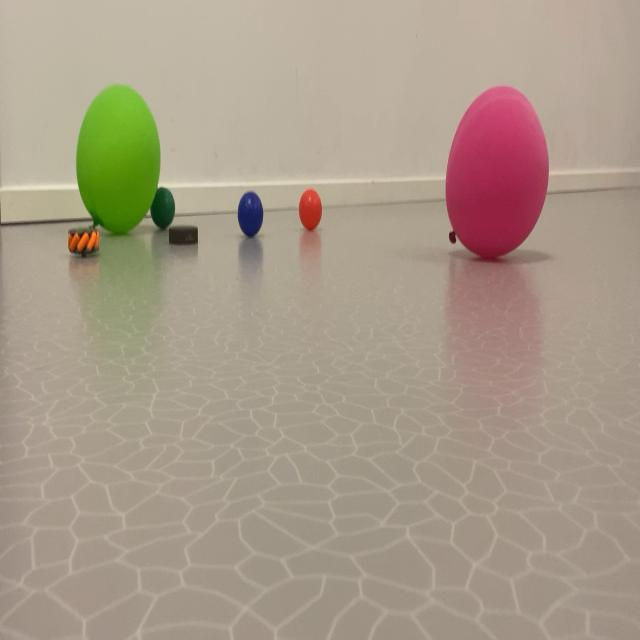6: (230, 154, 341, 274)
7: (290, 125, 332, 252)
green ball: (223, 133, 271, 251)
red ball: (146, 175, 186, 234)
